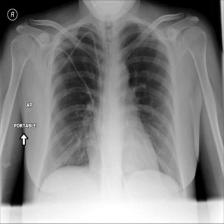normal: (39, 18, 184, 192)
